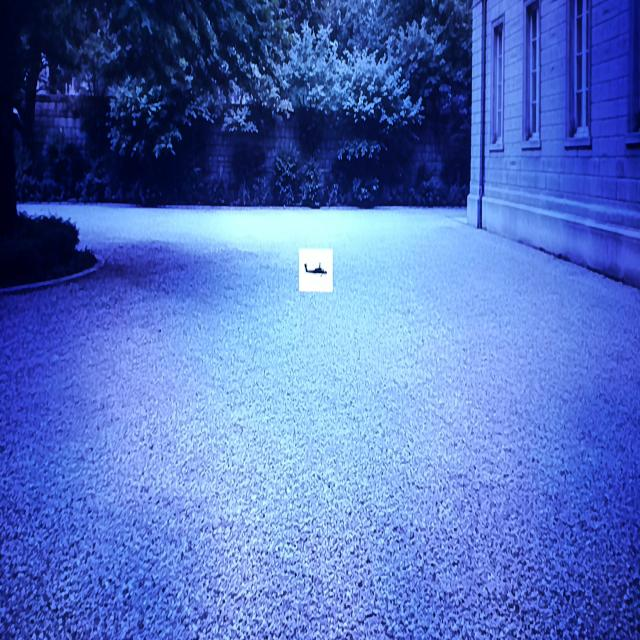Apache friendly: (303, 263, 327, 277)
